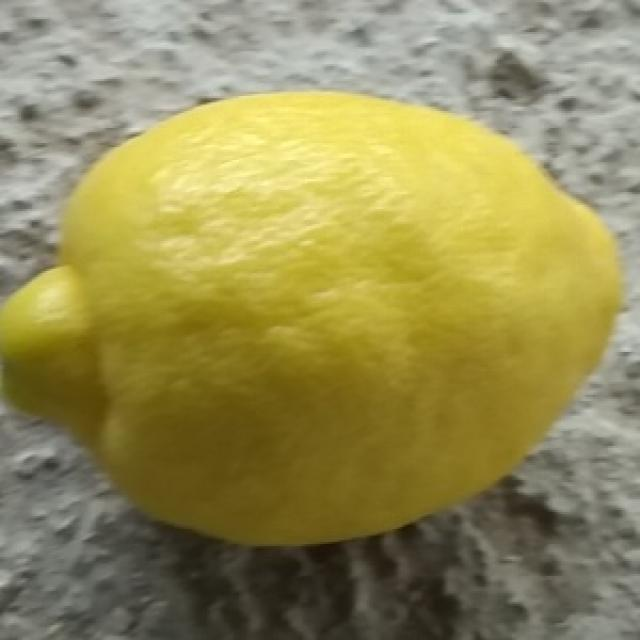Ripe: (0, 85, 631, 553)
